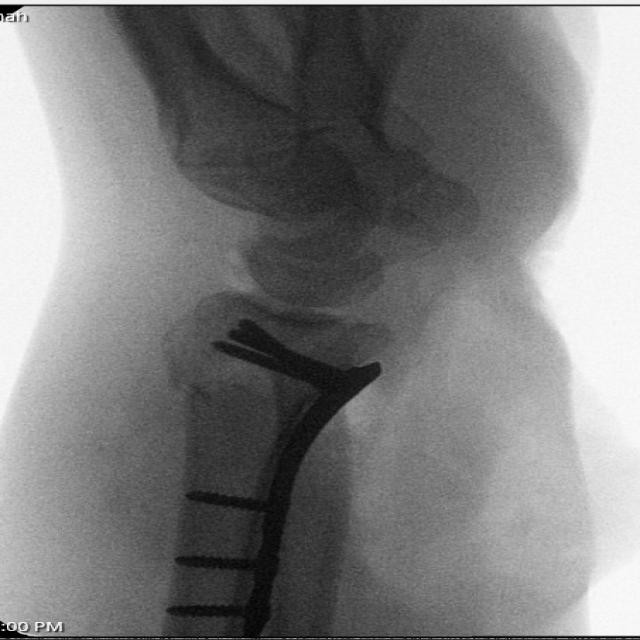x-ray: (150, 301, 393, 639)
